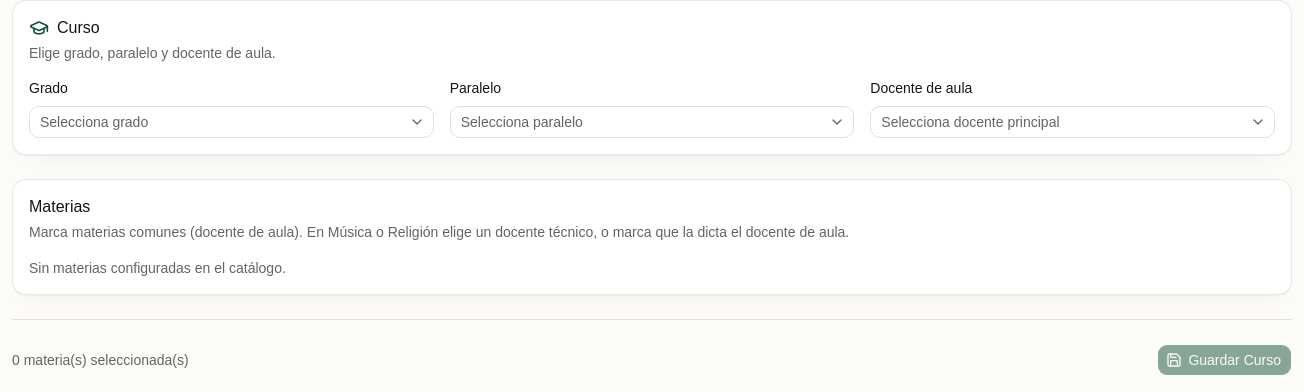
Test: AssignCourseSubjectsForm, docentes ya encargados › deshabilita al docente que ya es de aula y dice de qué curso
The image size is (1304, 392).
What coordinates should you click on to do the following:
click the dropdown named "docente de aula"
I would click on:
 (970, 122)
Its box is x1=870 y1=106 x2=1275 y2=138.
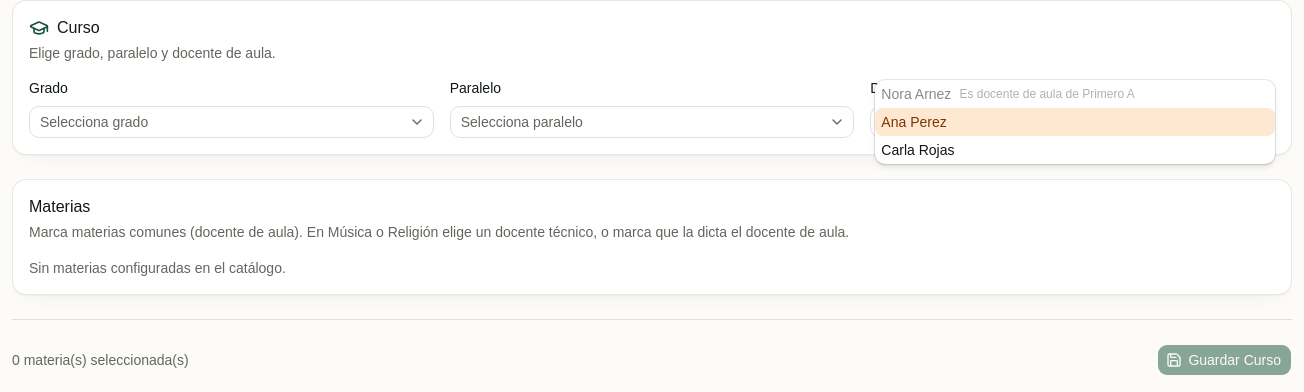
Result: the option "Nora Arnez Es docente de aula de Primero A" is shown at x1=881 y1=86 x2=1135 y2=102
